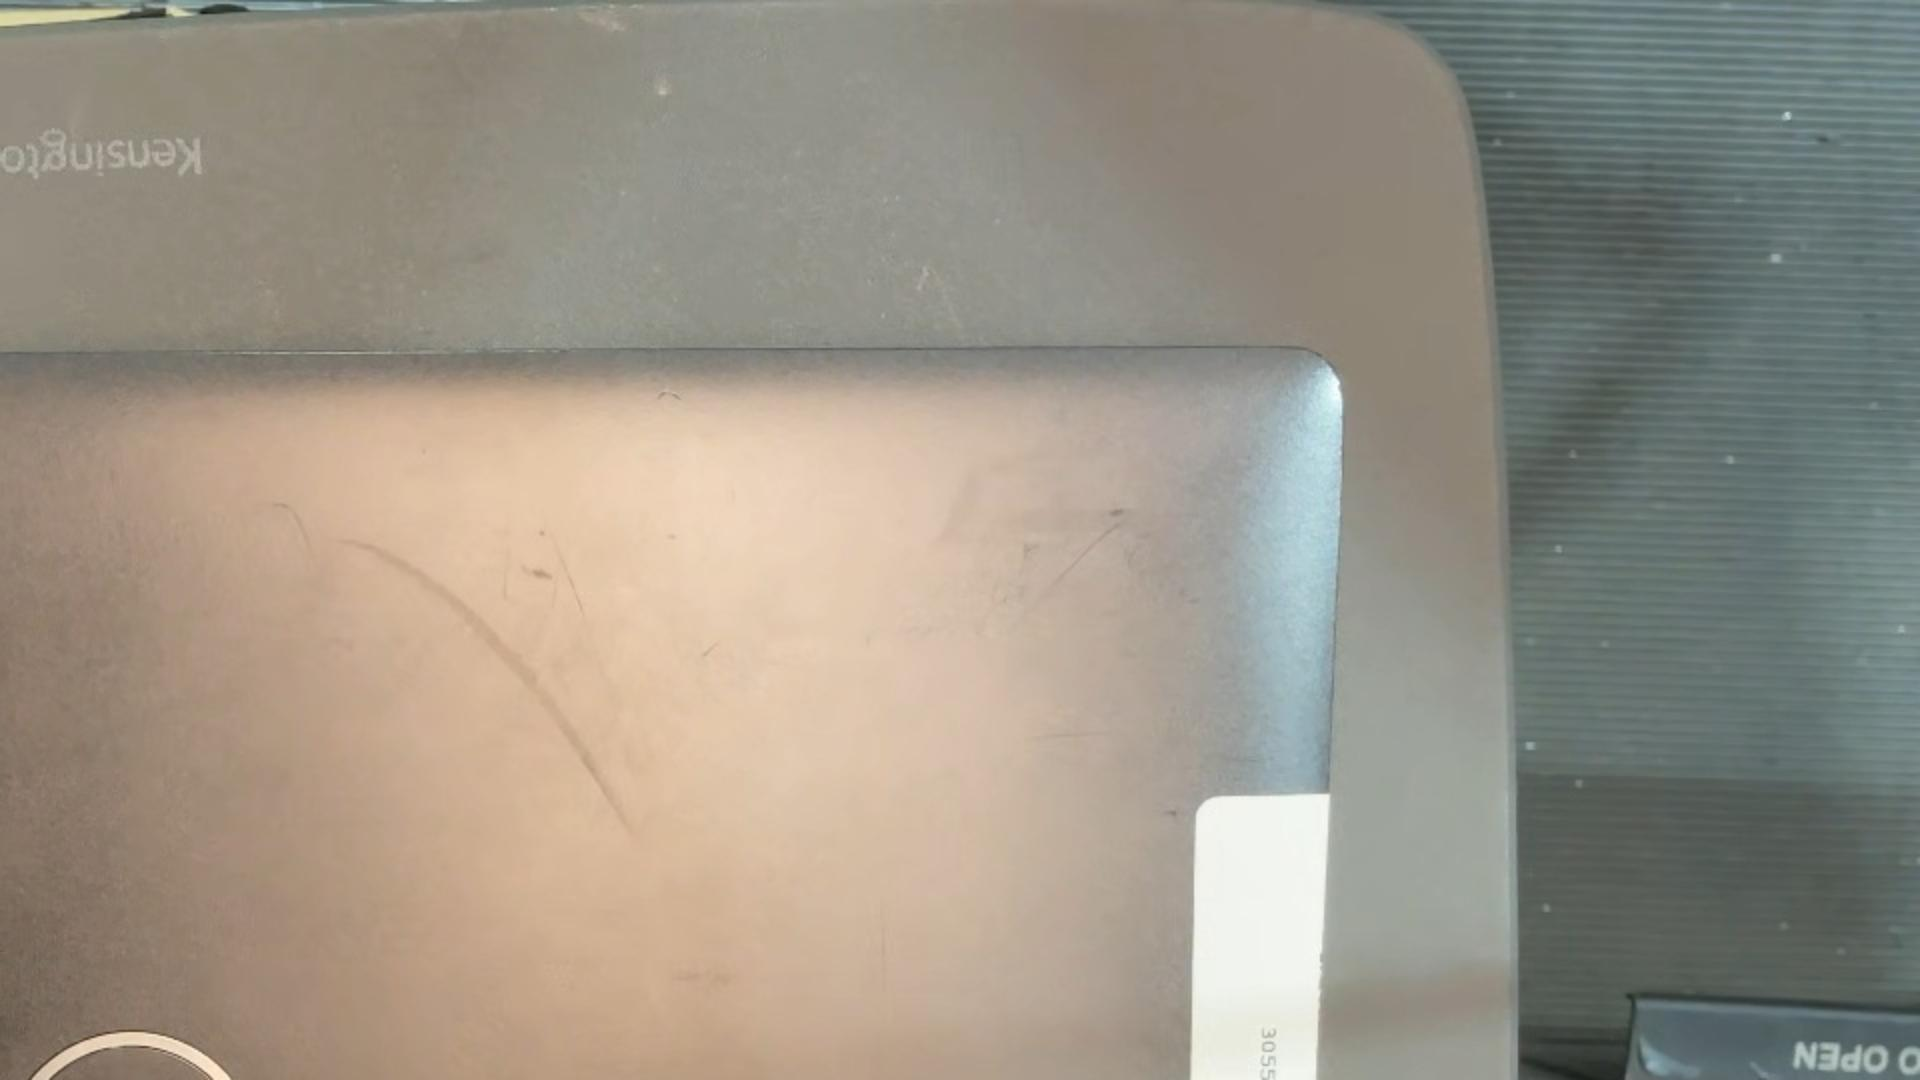scratches: (327, 534, 641, 841), (1051, 520, 1124, 587), (539, 516, 585, 616), (268, 502, 316, 560), (1026, 731, 1116, 741), (877, 889, 886, 990), (699, 638, 724, 661), (502, 533, 509, 601), (655, 390, 684, 402)
